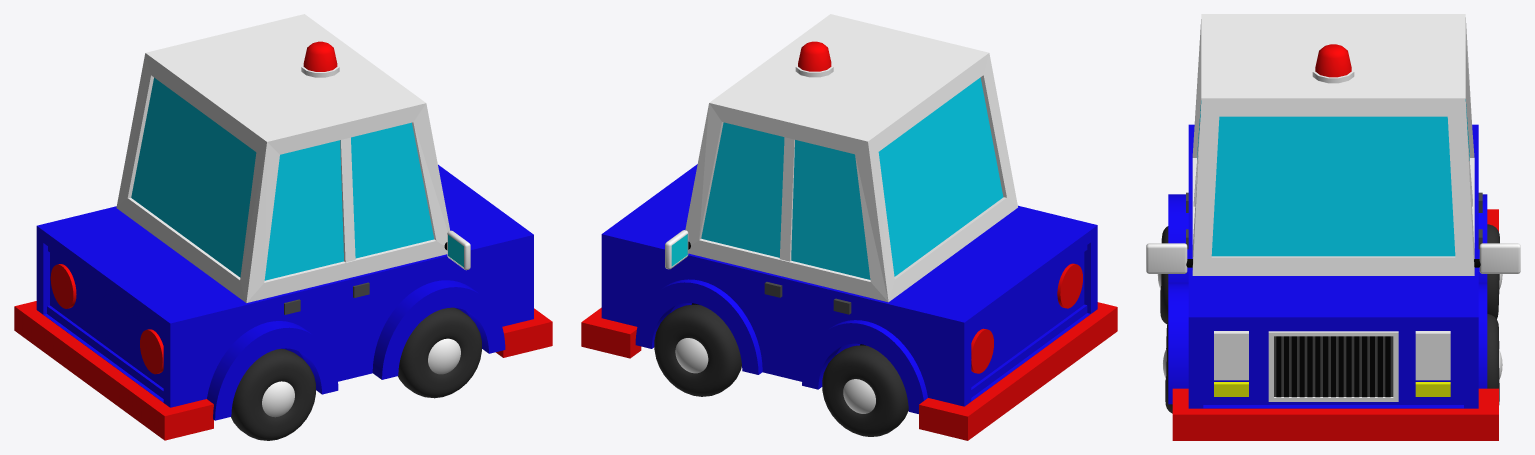
File: policecar.FBX
3 renders of one model, left to right at view 1: azimuth 30°, elevation 25°; view 2: azimuth 150°, elevation 25°; view 3: azimuth 270°, elevation 25°, orthographic. The views are drawn at different scales.
Visible parts, largest first — view 1: police; view 2: police; view 3: police.
Part boxes in pixels (bbox=[...]): police: bbox=[14, 14, 552, 440]; police: bbox=[581, 14, 1117, 440]; police: bbox=[1146, 14, 1520, 440].
Bounding box in the file's own units: 117 × 90.14 × 90.43.
